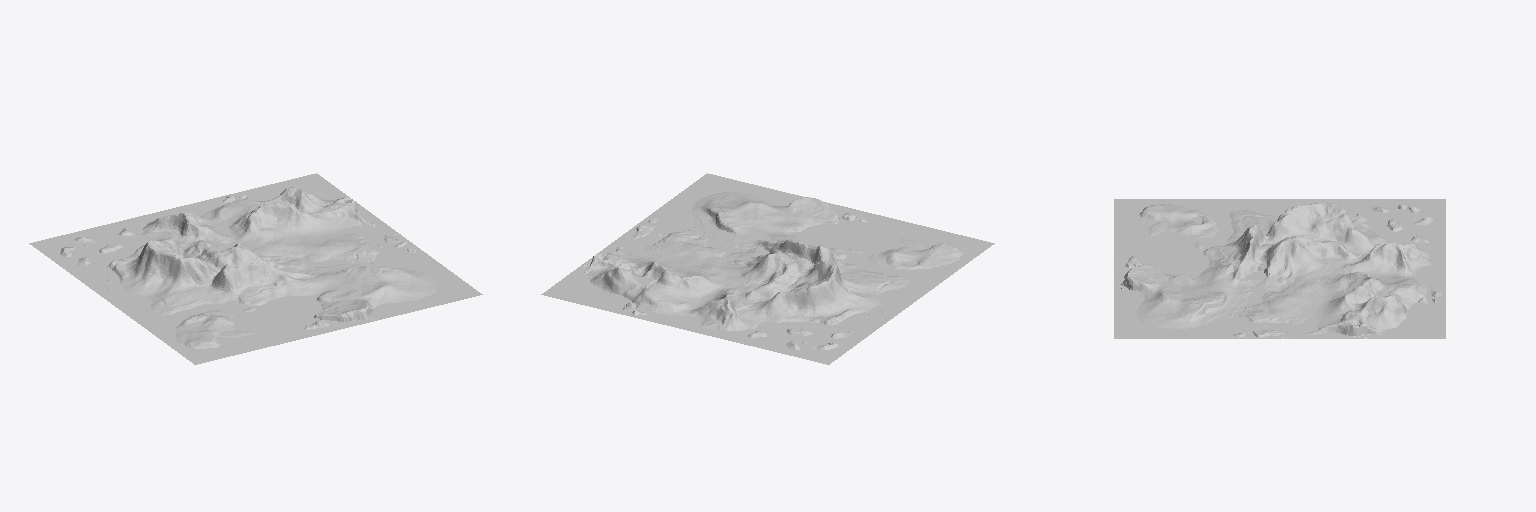
File: world.obj
3 views of the same model, side by side, from view 1: azimuth 30°, elevation 25°; view 2: azimuth 150°, elevation 25°; view 3: azimuth 270°, elevation 25° (orthographic).
Parts seen in each view (by area): view 1: Terrain; view 2: Terrain; view 3: Terrain.
Boxes of the visible parts, x1,y1,x2,y2 form: Terrain: [29, 173, 482, 364]; Terrain: [541, 173, 994, 364]; Terrain: [1114, 199, 1445, 338].
Size of the model in its own units: 400 by 35.07 by 400.